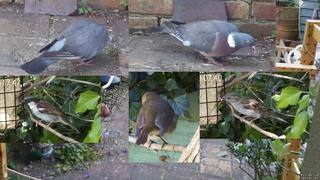robin: (134, 92, 180, 151)
sparrow: (220, 92, 289, 129), (20, 96, 81, 133)
wood pigeon: (149, 20, 256, 67), (20, 20, 109, 75)
